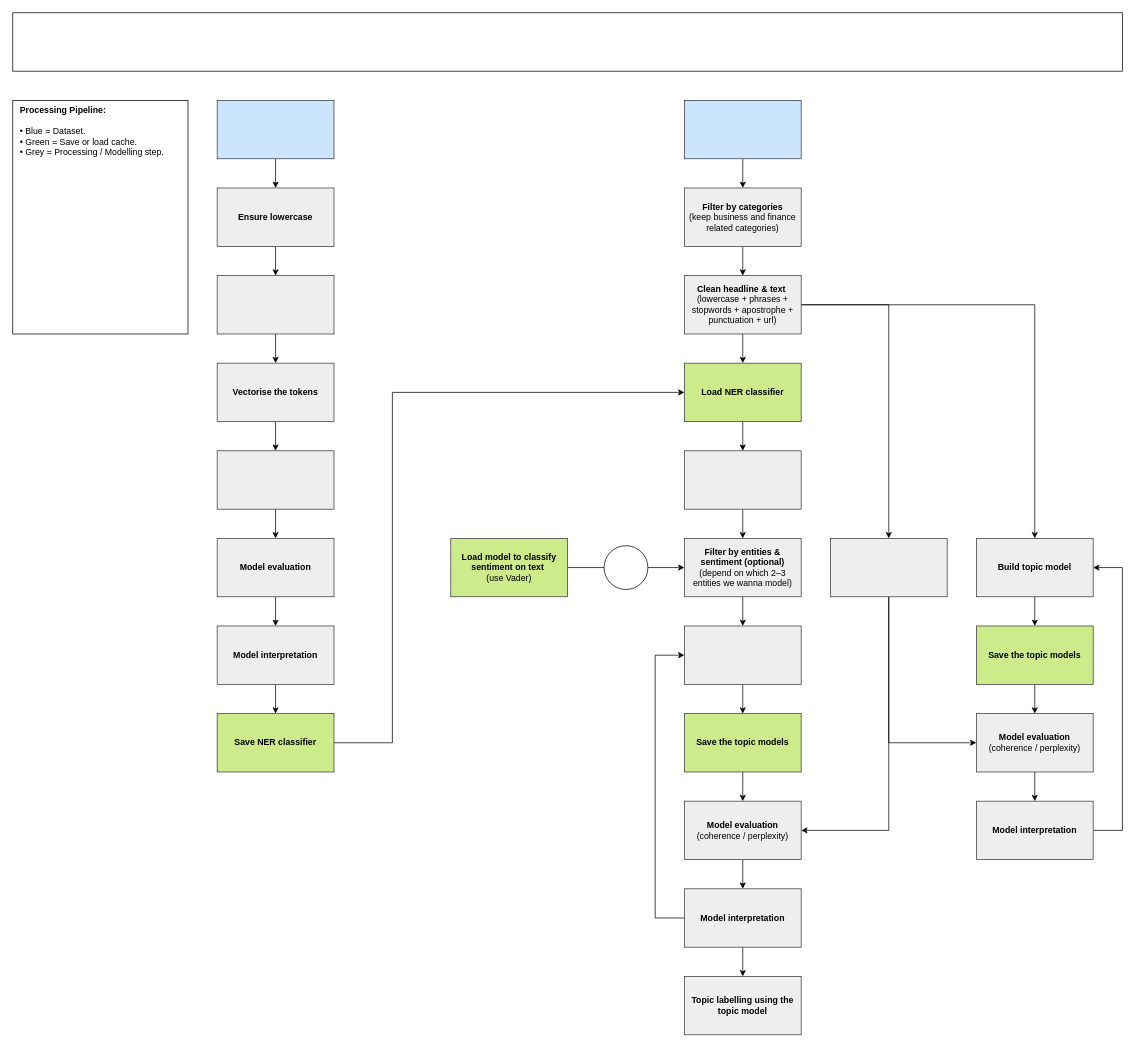
This 1141x1048 diagram has some shape labels left out. Each missing label, with the box of its shape:
Build topic model for each entity: (684, 625, 801, 684)
CNN News Dataset (contain date, headline, category, text): (684, 100, 801, 159)
Create embedding to measure coherence (using Gensim): (830, 538, 947, 597)
Financial Market Entities Dataset (contain token + pos_tag + entities + sub_tag): (216, 100, 334, 159)
Perform NER classification + Create new column: (684, 450, 801, 509)
Predict (optional): (603, 545, 648, 589)
Split into alphabet + Ngram / Bytepair (word segmentisation): (216, 275, 334, 334)
Train NER classifier: (216, 450, 334, 509)
Workflow:: (12, 12, 1122, 71)
